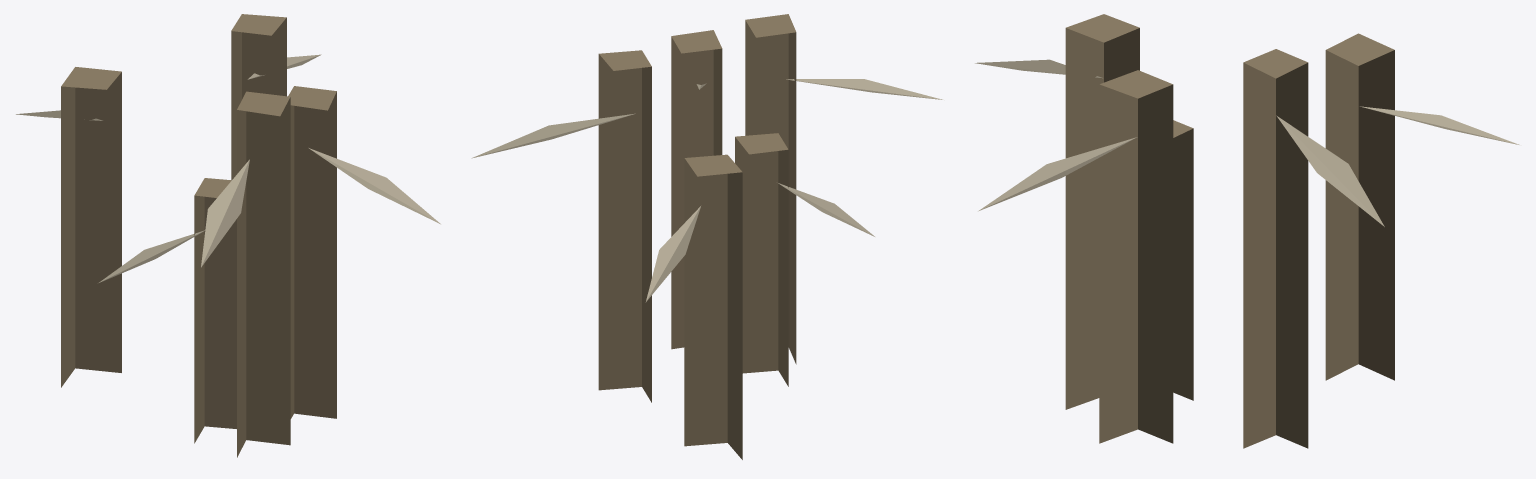
File: shui.luweicong@withered__spring.glb
3 views of the same model, side by side, from view 1: azimuth 30°, elevation 25°; view 2: azimuth 150°, elevation 25°; view 3: azimuth 270°, elevation 25° (orthographic). The views are drawn at different scales.
Visible parts, largest first — view 1: shui.luweicong@withered__spring; view 2: shui.luweicong@withered__spring; view 3: shui.luweicong@withered__spring.
Boxes of the visible parts, <box> form: shui.luweicong@withered__spring: <box>16,14,440,457</box>; shui.luweicong@withered__spring: <box>471,14,942,459</box>; shui.luweicong@withered__spring: <box>975,14,1519,448</box>.
Bounding box in the file's own units: 0.9238 × 0.9576 × 1.23.
